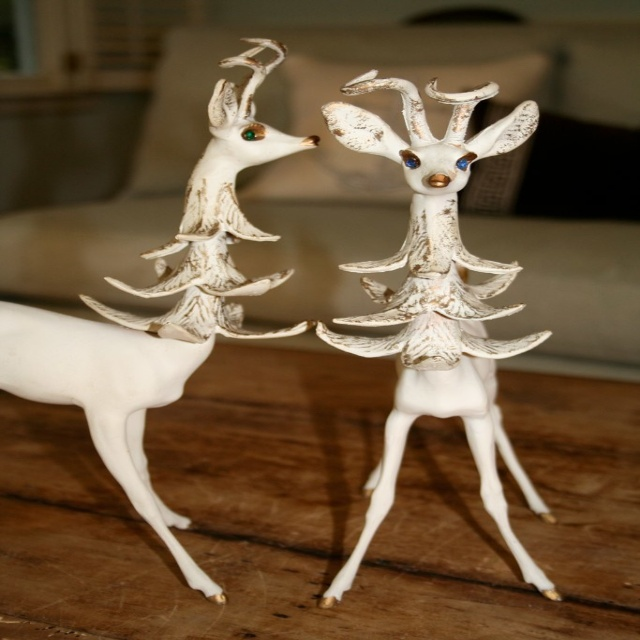Deer: (6, 36, 318, 602), (321, 74, 572, 604)
